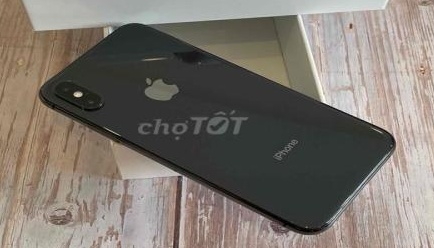scratch: (87, 101, 115, 111)
